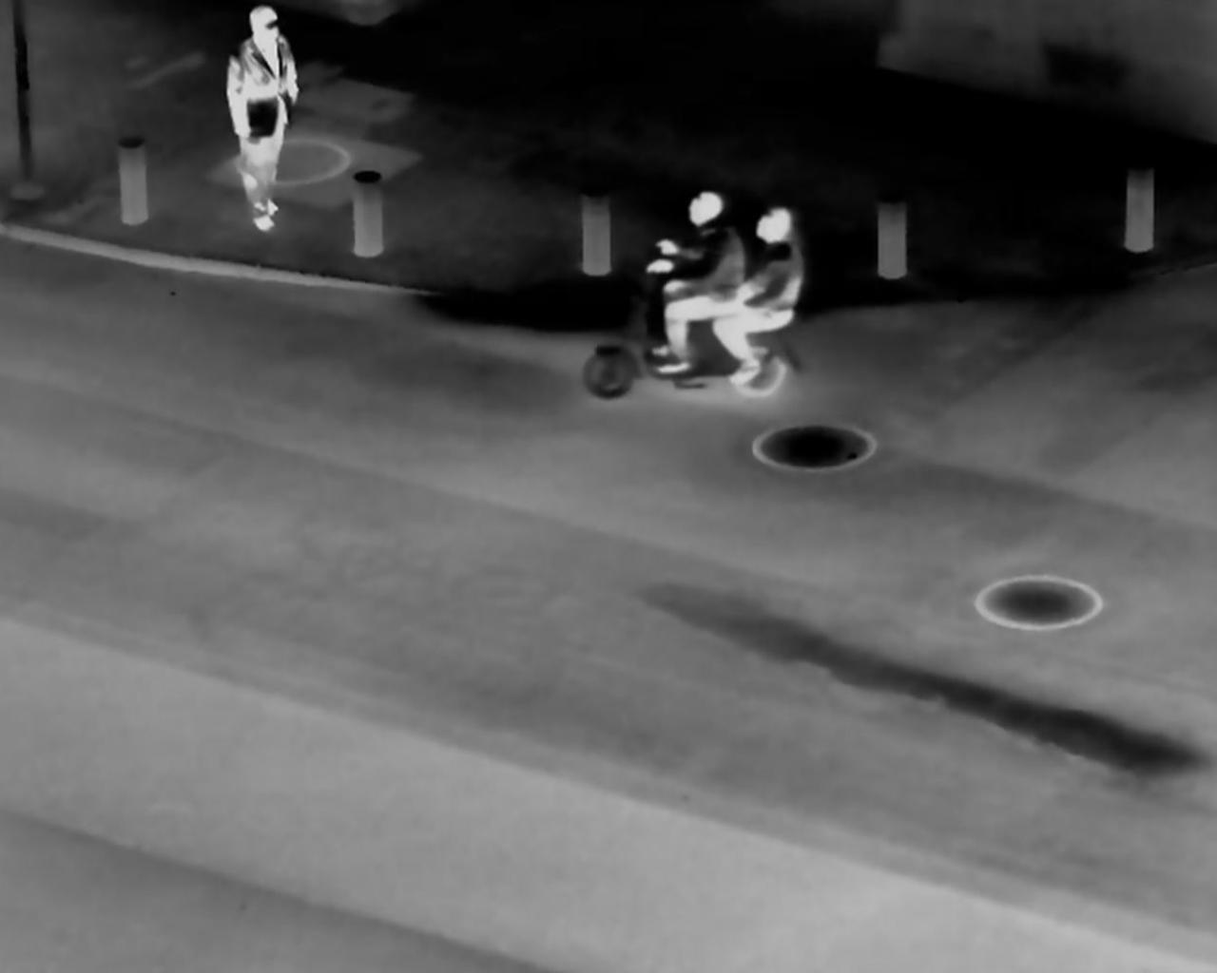person: (213, 8, 316, 230), (655, 181, 750, 376), (724, 200, 816, 386)
